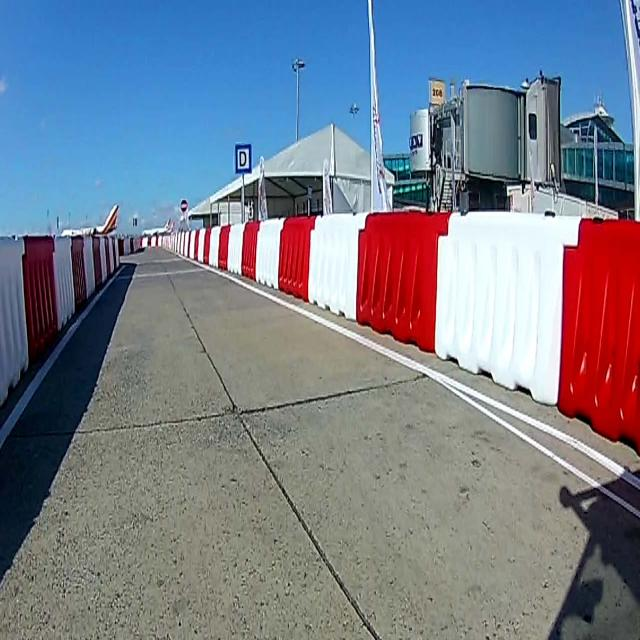durak: (234, 143, 252, 174)
girisyok: (180, 199, 188, 213)
